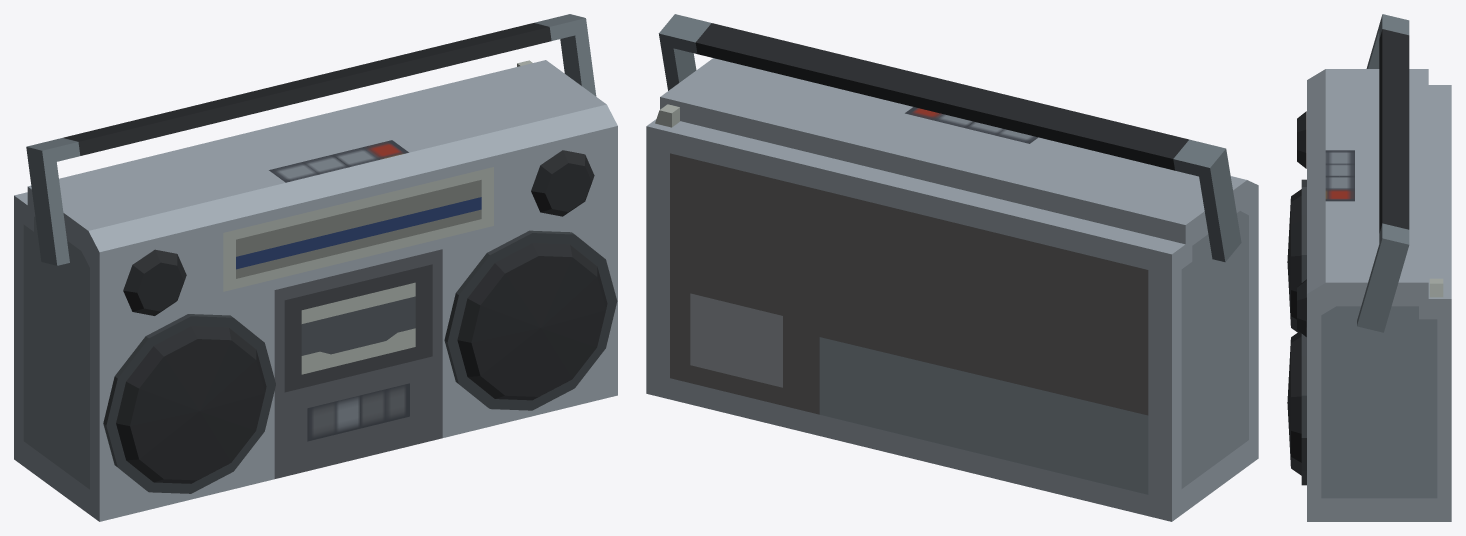
File: Boombox.fbx
3 renders of one model, left to right at view 1: azimuth 30°, elevation 25°; view 2: azimuth 150°, elevation 25°; view 3: azimuth 270°, elevation 25°, orthographic. The views are drawn at different scales.
Visible parts, largest first — view 1: Boombox; view 2: Boombox; view 3: Boombox.
Boxes of the visible parts, left/top/right/bottom form: Boombox: left=14, top=14, right=617, bottom=521; Boombox: left=646, top=14, right=1258, bottom=521; Boombox: left=1287, top=14, right=1451, bottom=521.
Size of the model in its own units: 86.94 by 52.19 by 26.87.
1 material, 1 textured.
